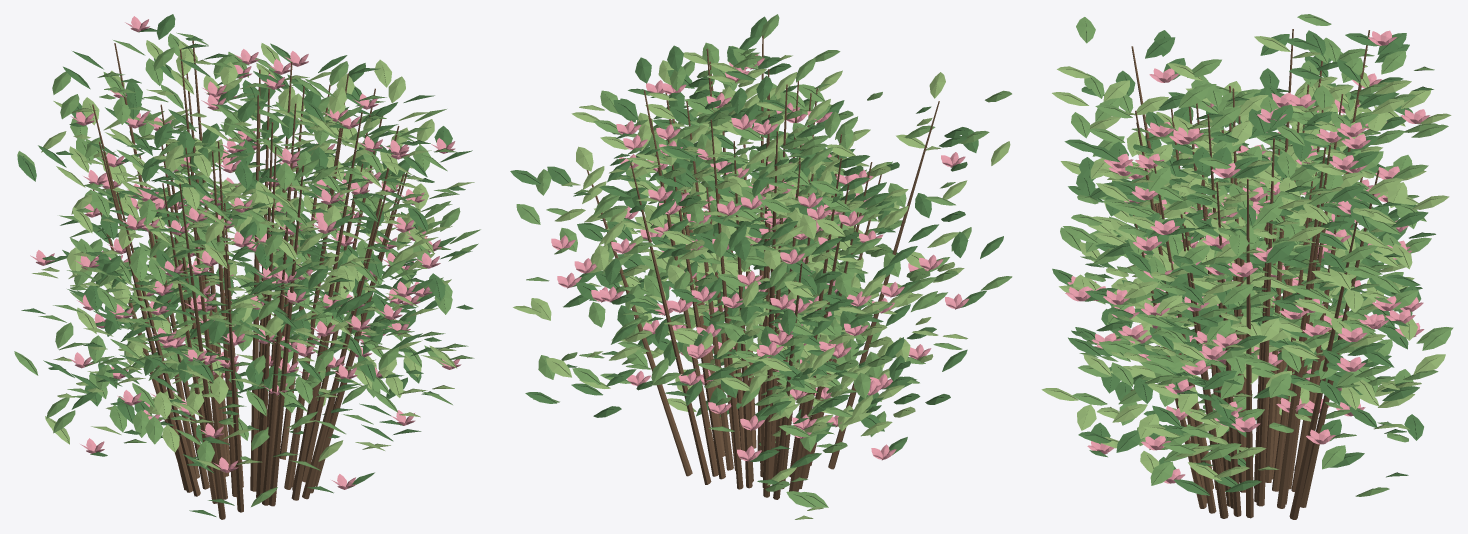
The model's file is flowering-shrub.glb.
3 renders of one model, left to right at view 1: azimuth 30°, elevation 25°; view 2: azimuth 150°, elevation 25°; view 3: azimuth 270°, elevation 25°, orthographic. The views are drawn at different scales.
Visible parts, largest first — view 1: catalog_surface_RealismUV; view 2: catalog_surface_RealismUV; view 3: catalog_surface_RealismUV.
Boxes of the visible parts, left/top/right/bottom form: catalog_surface_RealismUV: left=14, top=14, right=480, bottom=519; catalog_surface_RealismUV: left=510, top=14, right=1012, bottom=519; catalog_surface_RealismUV: left=1041, top=14, right=1453, bottom=519.
Bounding box in the file's own units: 0.9 × 1 × 0.85.
